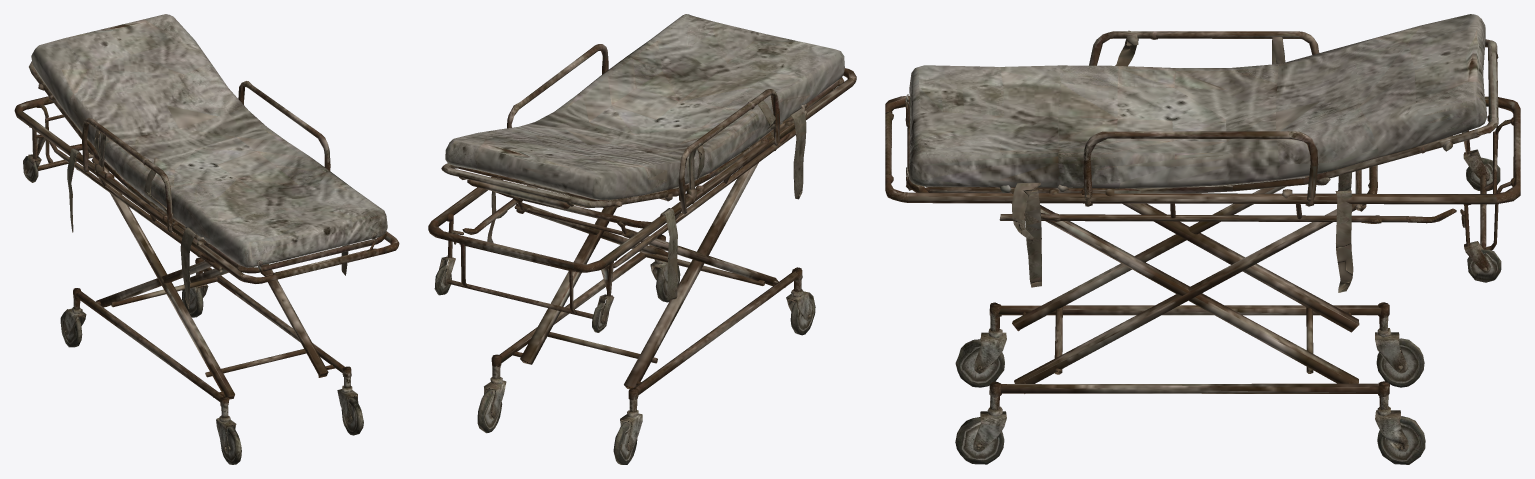
File: stretcher.glb
The picture shows the model from 3 angles, left to right: view 1: azimuth 30°, elevation 25°; view 2: azimuth 150°, elevation 25°; view 3: azimuth 270°, elevation 25°; orthographic projection. The views are drawn at different scales.
Bounding box in the file's own units: 0.4183 × 0.6446 × 1.
1 material, 1 textured.
